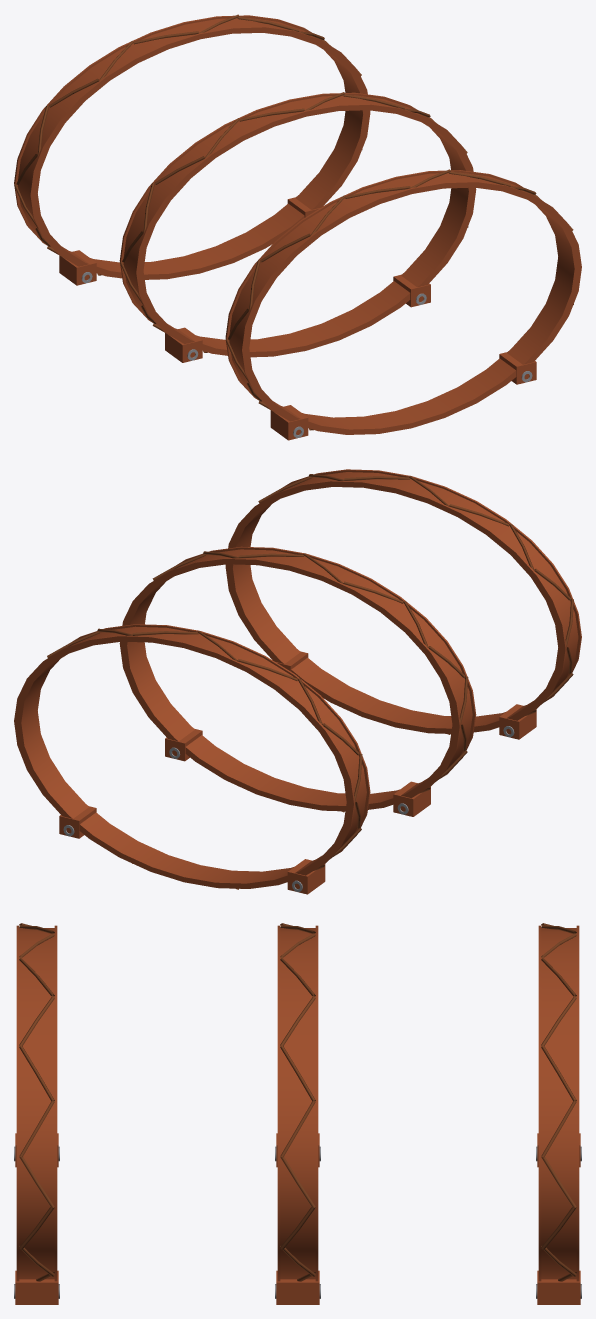
The model's file is pod100_cradles.obj.
3 views of the same model, one above another, from view 1: azimuth 30°, elevation 25°; view 2: azimuth 150°, elevation 25°; view 3: azimuth 270°, elevation 25° (orthographic). The views are drawn at different scales.
Visible parts, largest first — view 1: pod100_cradles; view 2: pod100_cradles; view 3: pod100_cradles.
Boxes of the visible parts, x1,y1,x2,y2 form: pod100_cradles: [14, 14, 581, 440]; pod100_cradles: [14, 469, 581, 894]; pod100_cradles: [14, 923, 581, 1304].
Bounding box in the file's own units: 7.23 × 4.88 × 8.38.
